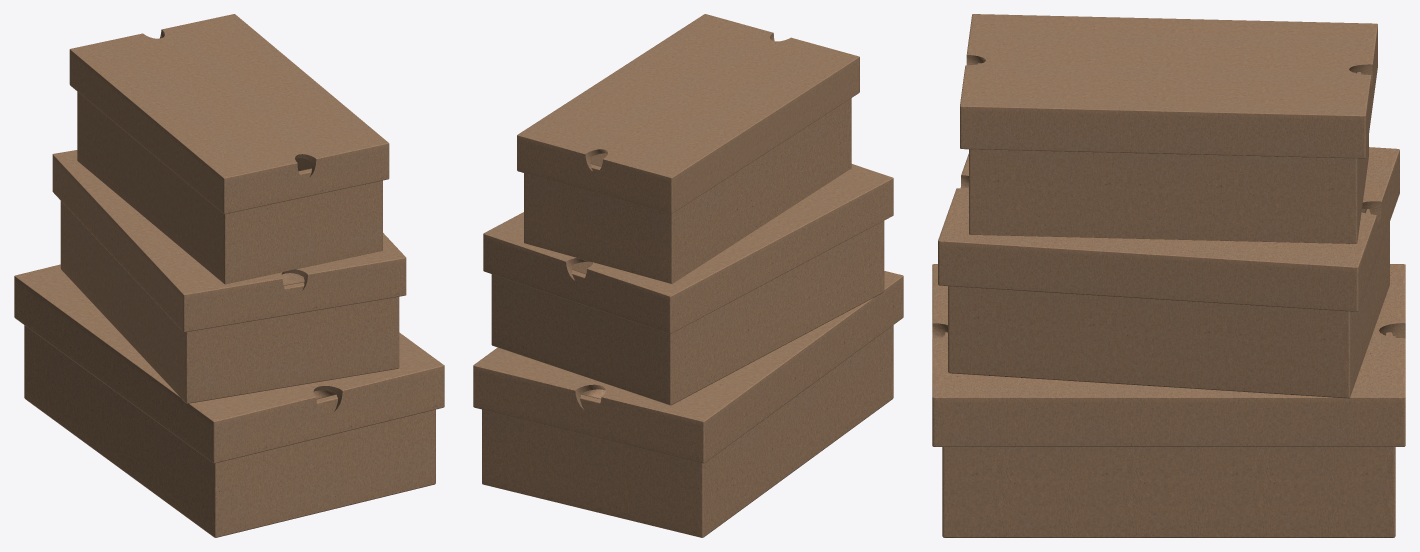
The model's file is ShoeBox2.fbx.
3 views of the same model, side by side, from view 1: azimuth 30°, elevation 25°; view 2: azimuth 150°, elevation 25°; view 3: azimuth 270°, elevation 25° (orthographic). The views are drawn at different scales.
Parts seen in each view (by area): view 1: pCube19, pCube15, pCube16, pCube17, pCube20, pCube18; view 2: pCube19, pCube15, pCube17, pCube16, pCube20, pCube18; view 3: pCube19, pCube15, pCube17, pCube16, pCube20, pCube18.
Part boxes in pixels (x1=…): pCube19: x1=69, y1=14, x2=389, y2=214; pCube15: x1=24, y1=325, x2=435, y2=537; pCube16: x1=14, y1=264, x2=444, y2=463; pCube17: x1=60, y1=201, x2=399, y2=403; pCube20: x1=77, y1=92, x2=382, y2=284; pCube18: x1=52, y1=150, x2=406, y2=332; pCube19: x1=517, y1=14, x2=859, y2=213; pCube15: x1=482, y1=325, x2=893, y2=537; pCube17: x1=491, y1=221, x2=884, y2=405; pCube16: x1=473, y1=271, x2=903, y2=463; pCube20: x1=524, y1=98, x2=851, y2=283; pCube18: x1=483, y1=164, x2=893, y2=333; pCube19: x1=960, y1=14, x2=1377, y2=158; pCube15: x1=942, y1=332, x2=1395, y2=537; pCube17: x1=948, y1=209, x2=1389, y2=398; pCube16: x1=932, y1=264, x2=1405, y2=446; pCube20: x1=969, y1=63, x2=1368, y2=243; pCube18: x1=938, y1=147, x2=1399, y2=311.
Size of the model in its own units: 4.53 by 5.97 by 6.25.
Materials: 1 (1 with a texture image).
